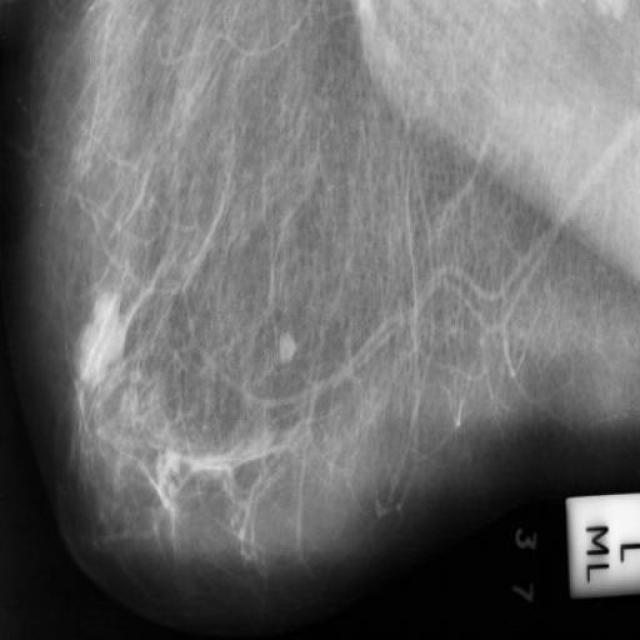cancer: (60, 272, 156, 442), (150, 32, 240, 169)
